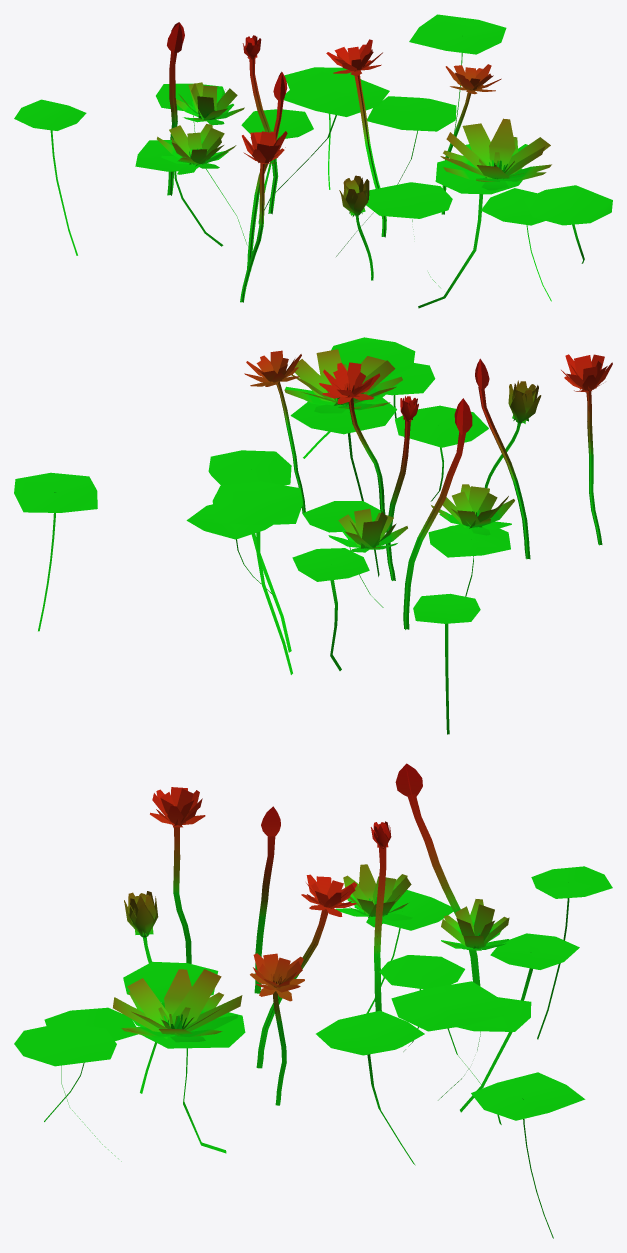
Rendered from Var6_LOD2.fbx.
3 renders of one model, top to bottom at view 1: azimuth 30°, elevation 25°; view 2: azimuth 150°, elevation 25°; view 3: azimuth 270°, elevation 25°, orthographic. The views are drawn at different scales.
Parts seen in each view (by area): view 1: _143e_Var6_LOD2; view 2: _143e_Var6_LOD2; view 3: _143e_Var6_LOD2.
Boxes of the visible parts, left/top/right/bottom form: _143e_Var6_LOD2: left=14, top=14, right=612, bottom=308; _143e_Var6_LOD2: left=14, top=337, right=612, bottom=734; _143e_Var6_LOD2: left=14, top=763, right=612, bottom=1238.
Size of the model in its own units: 149 by 85.48 by 148.
